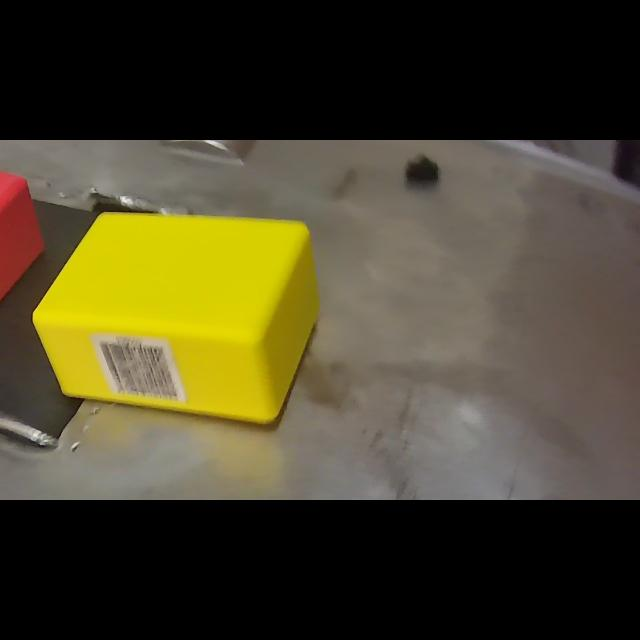redBox: (0, 144, 46, 346)
yellowBox: (32, 208, 326, 434)
